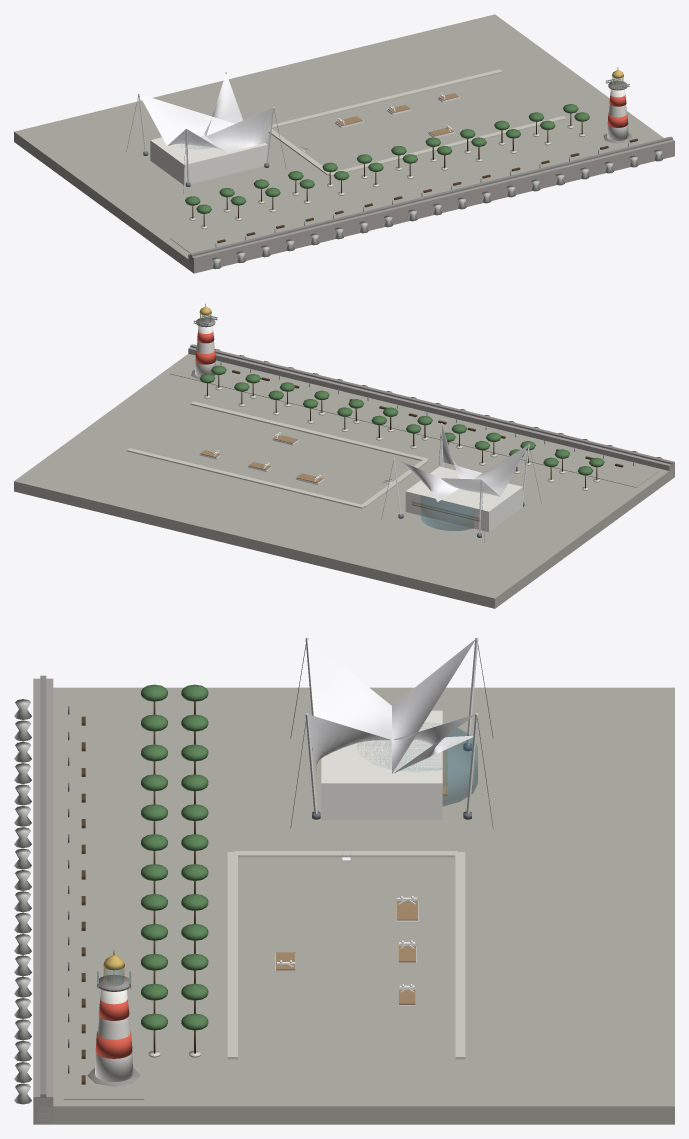
File: port_city.glb
The picture shows the model from 3 angles, top to bottom: view 1: azimuth 30°, elevation 25°; view 2: azimuth 150°, elevation 25°; view 3: azimuth 270°, elevation 25°; orthographic projection. The views are drawn at different scales.
Visible parts, largest first — view 1: 01 Reclaimed coastal peninsula and seawall / Paving, 01 Reclaimed coastal peninsula and seawall / Rusticated Gran, 05 Tensile fabric sail canopy / Tensile Fabric, 04 Marina yacht clubhouse and promenade / White plaster, 01 Reclaimed coastal peninsula and seawall / Leaves, 02 Marina yacht basin and floating pontoons / Limestone, 01 Reclaimed coastal peninsula and seawall / Granite Base, 01 Reclaimed coastal peninsula and seawall / Concrete, 01 Reclaimed coastal peninsula and seawall / Limestone, 06 Port City maritime beacon lighthouse / White plaster, 01 Reclaimed coastal peninsula and seawall / Timber.001, 03 Luxury yachts and catamarans / Timber Decking (+2 smaller); view 2: 01 Reclaimed coastal peninsula and seawall / Paving, 01 Reclaimed coastal peninsula and seawall / Rusticated Gran, 04 Marina yacht clubhouse and promenade / White plaster, 01 Reclaimed coastal peninsula and seawall / Leaves, 05 Tensile fabric sail canopy / Tensile Fabric, 02 Marina yacht basin and floating pontoons / Limestone, 01 Reclaimed coastal peninsula and seawall / Granite Base, 04 Marina yacht clubhouse and promenade / Ocean Glass, 01 Reclaimed coastal peninsula and seawall / Limestone, 06 Port City maritime beacon lighthouse / White plaster, 01 Reclaimed coastal peninsula and seawall / Timber.001, 03 Luxury yachts and catamarans / Timber Decking; view 3: 01 Reclaimed coastal peninsula and seawall / Paving, 05 Tensile fabric sail canopy / Tensile Fabric, 01 Reclaimed coastal peninsula and seawall / Leaves, 04 Marina yacht clubhouse and promenade / White plaster, 01 Reclaimed coastal peninsula and seawall / Rusticated Gran, 02 Marina yacht basin and floating pontoons / Limestone, 01 Reclaimed coastal peninsula and seawall / Concrete, 01 Reclaimed coastal peninsula and seawall / Granite Base, 04 Marina yacht clubhouse and promenade / Ocean Glass, 06 Port City maritime beacon lighthouse / White plaster, 05 Tensile fabric sail canopy / White Steel, 03 Luxury yachts and catamarans / Timber Decking (+4 smaller).
Part boxes in pixels (x1,y1,x2,y2): 01 Reclaimed coastal peninsula and seawall / Paving: (14, 14, 663, 272); 01 Reclaimed coastal peninsula and seawall / Rusticated Gran: (188, 137, 674, 273); 05 Tensile fabric sail canopy / Tensile Fabric: (139, 73, 272, 153); 04 Marina yacht clubhouse and promenade / White plaster: (150, 137, 267, 185); 01 Reclaimed coastal peninsula and seawall / Leaves: (185, 104, 589, 213); 02 Marina yacht basin and floating pontoons / Limestone: (268, 69, 566, 176); 01 Reclaimed coastal peninsula and seawall / Granite Base: (190, 136, 672, 256); 01 Reclaimed coastal peninsula and seawall / Concrete: (211, 149, 662, 269); 01 Reclaimed coastal peninsula and seawall / Limestone: (189, 125, 585, 228); 06 Port City maritime beacon lighthouse / White plaster: (607, 89, 628, 140); 01 Reclaimed coastal peninsula and seawall / Timber.001: (192, 113, 582, 226); 03 Luxury yachts and catamarans / Timber Decking: (336, 93, 458, 136); 01 Reclaimed coastal peninsula and seawall / Paving: (14, 353, 673, 608); 01 Reclaimed coastal peninsula and seawall / Rusticated Gran: (188, 344, 674, 477); 04 Marina yacht clubhouse and promenade / White plaster: (405, 466, 522, 531); 01 Reclaimed coastal peninsula and seawall / Leaves: (200, 365, 604, 475); 05 Tensile fabric sail canopy / Tensile Fabric: (395, 425, 528, 501); 02 Marina yacht basin and floating pontoons / Limestone: (126, 401, 428, 508); 01 Reclaimed coastal peninsula and seawall / Granite Base: (190, 344, 672, 464); 04 Marina yacht clubhouse and promenade / Ocean Glass: (421, 495, 473, 530); 01 Reclaimed coastal peninsula and seawall / Limestone: (204, 386, 600, 490); 06 Port City maritime beacon lighthouse / White plaster: (195, 326, 215, 376); 01 Reclaimed coastal peninsula and seawall / Timber.001: (207, 375, 597, 488); 03 Luxury yachts and catamarans / Timber Decking: (200, 434, 323, 483); 01 Reclaimed coastal peninsula and seawall / Paving: (38, 687, 674, 1124); 05 Tensile fabric sail canopy / Tensile Fabric: (307, 639, 475, 773); 01 Reclaimed coastal peninsula and seawall / Leaves: (141, 684, 208, 1030); 04 Marina yacht clubhouse and promenade / White plaster: (321, 710, 442, 819); 01 Reclaimed coastal peninsula and seawall / Rusticated Gran: (33, 678, 53, 1124); 02 Marina yacht basin and floating pontoons / Limestone: (227, 851, 465, 1059); 01 Reclaimed coastal peninsula and seawall / Concrete: (14, 699, 31, 1104); 01 Reclaimed coastal peninsula and seawall / Granite Base: (40, 675, 46, 1097); 04 Marina yacht clubhouse and promenade / Ocean Glass: (358, 723, 477, 806); 06 Port City maritime beacon lighthouse / White plaster: (95, 989, 133, 1081); 05 Tensile fabric sail canopy / White Steel: (305, 637, 478, 813); 03 Luxury yachts and catamarans / Timber Decking: (276, 901, 417, 1004).
Bounding box in the file's own units: 196 × 32.2 × 131.
